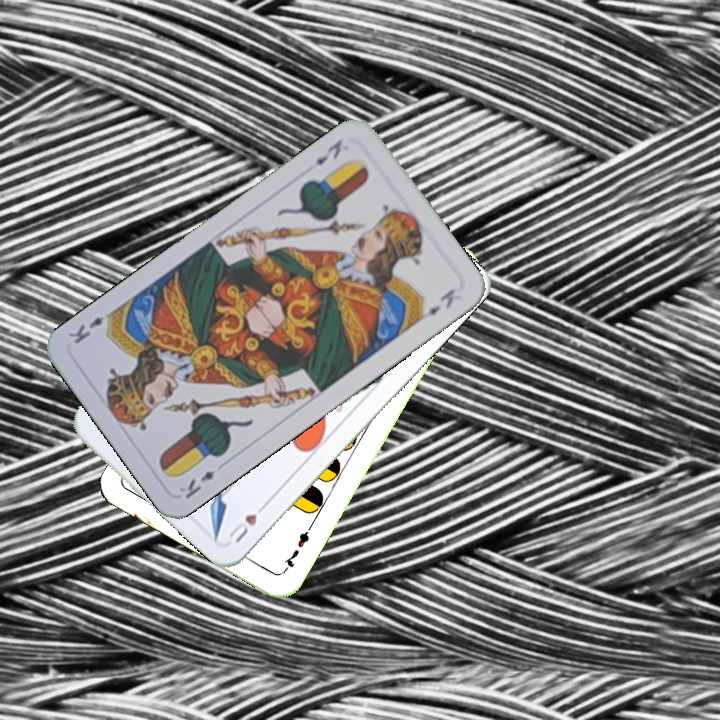E7: (279, 521, 315, 575)
EK: (175, 466, 217, 502), (311, 135, 346, 168)
HU: (224, 497, 271, 546)
